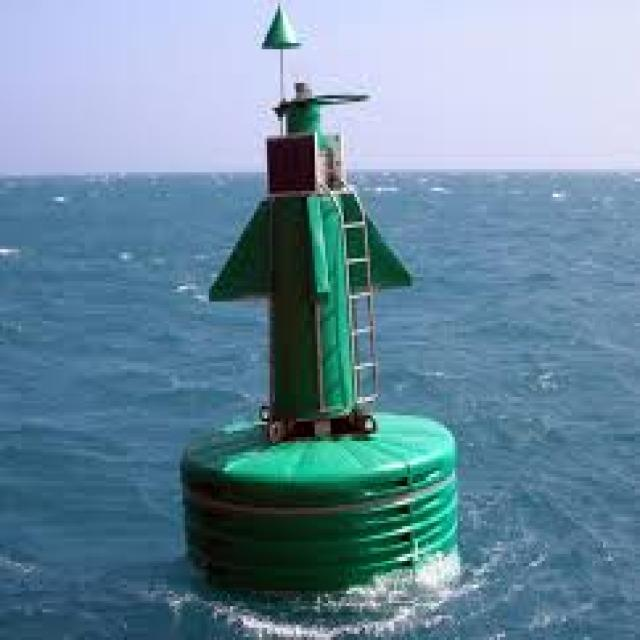marque: (167, 1, 477, 602)
